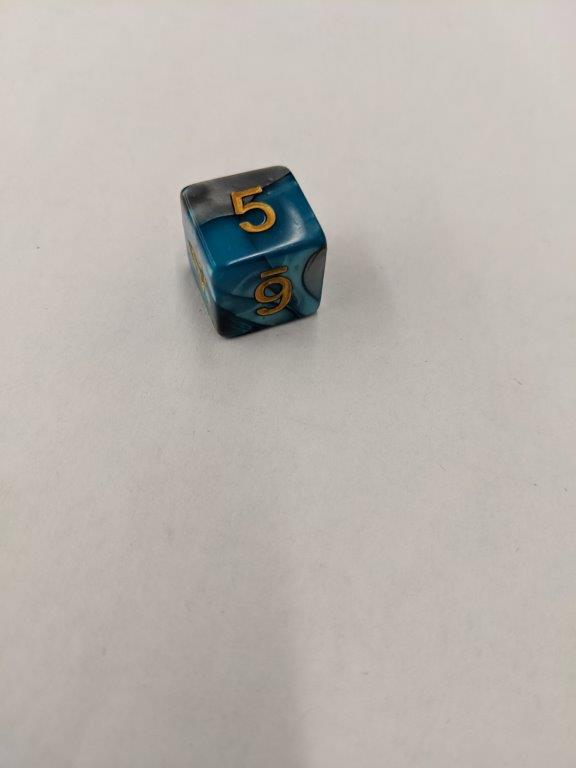d6-5: (178, 164, 327, 340)
